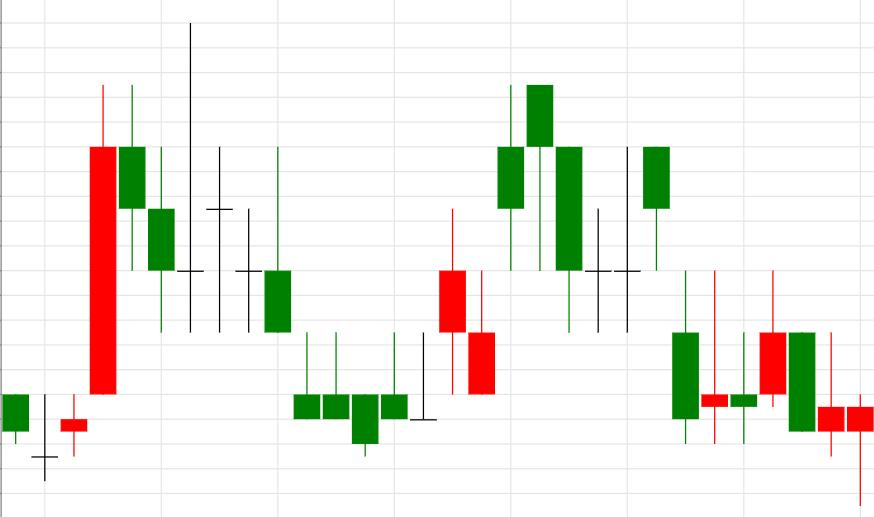hanging_man_fall: (352, 85, 554, 456)
